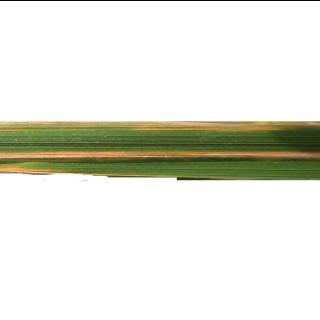Hawar-Daun: (0, 136, 318, 172), (6, 112, 320, 136)
